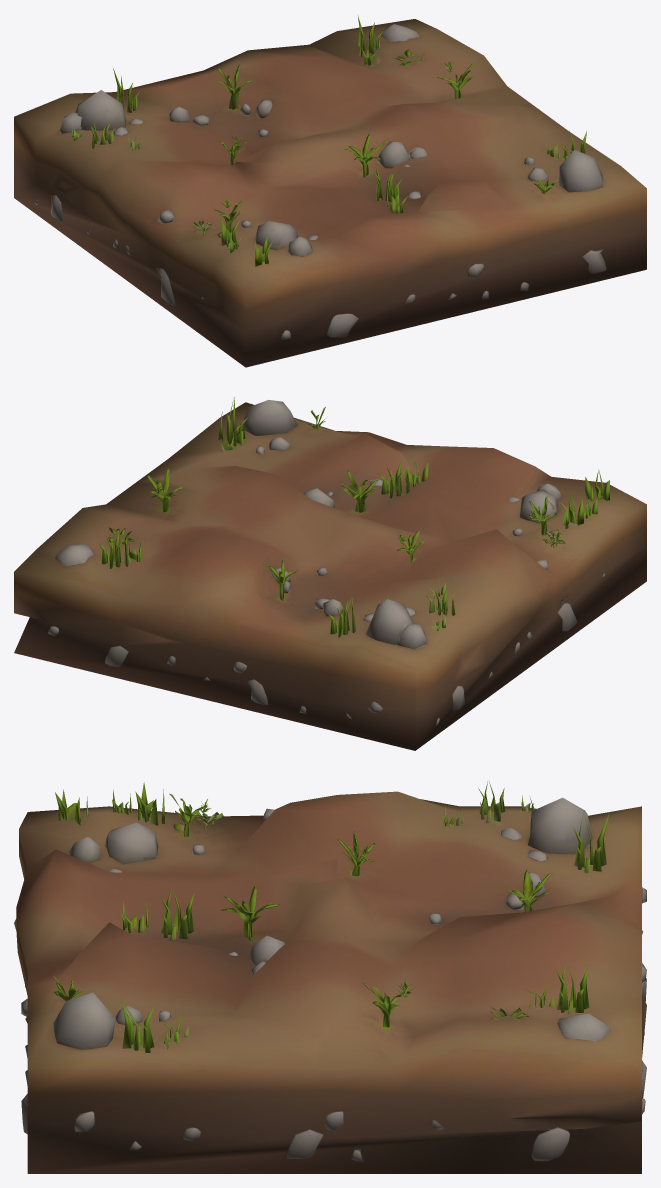
Rendered from selected.fbx.
3 renders of one model, top to bottom at view 1: azimuth 30°, elevation 25°; view 2: azimuth 150°, elevation 25°; view 3: azimuth 270°, elevation 25°, orthographic. The views are drawn at different scales.
Parts seen in each view (by area): view 1: tripo_node_150f0589-f4af-4ec7-9c61-414ddea7802a; view 2: tripo_node_150f0589-f4af-4ec7-9c61-414ddea7802a; view 3: tripo_node_150f0589-f4af-4ec7-9c61-414ddea7802a.
Boxes of the visible parts, box(x1,y1,x2,y2) form: tripo_node_150f0589-f4af-4ec7-9c61-414ddea7802a: box(14, 16, 646, 367); tripo_node_150f0589-f4af-4ec7-9c61-414ddea7802a: box(14, 397, 646, 750); tripo_node_150f0589-f4af-4ec7-9c61-414ddea7802a: box(14, 780, 646, 1173).
Bounding box in the file's own units: 99.8 × 29.1 × 99.8.
Materials: 1 (1 with a texture image).
